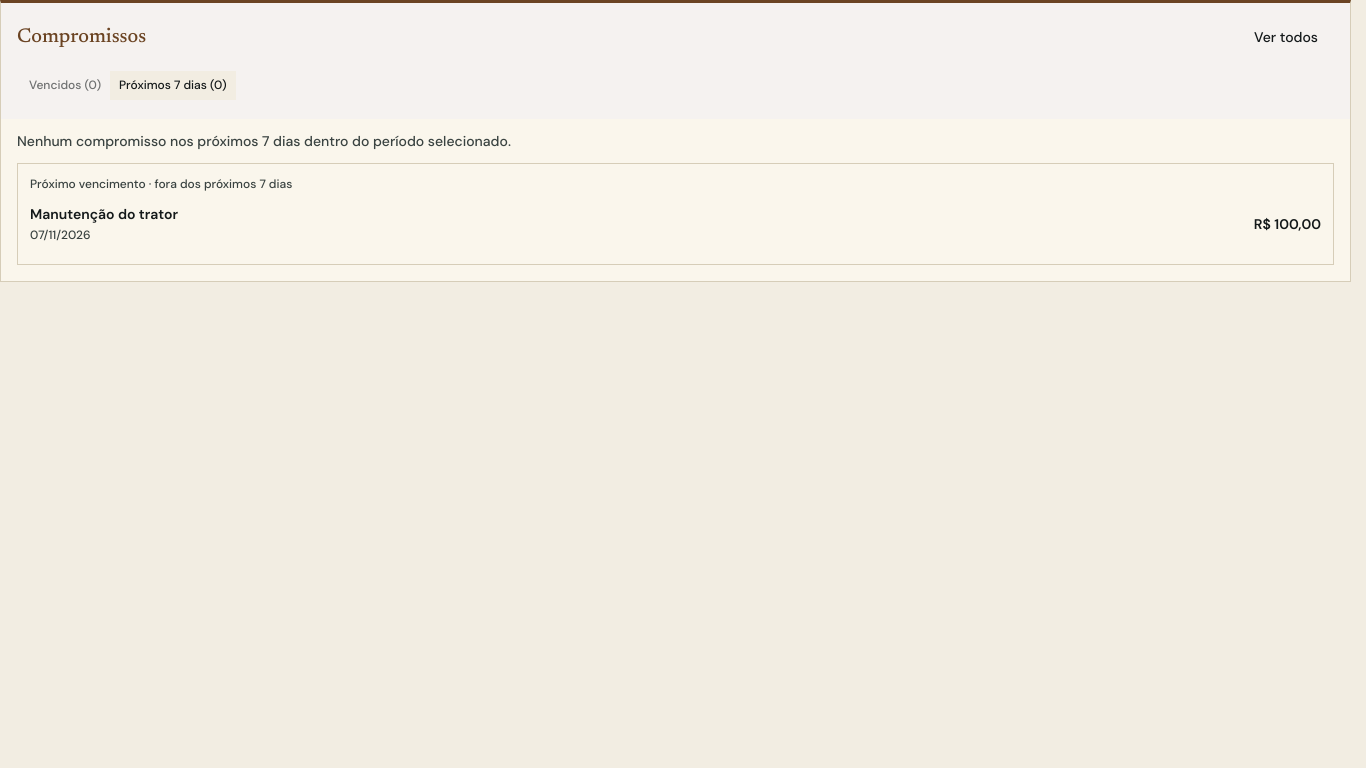
Test: apresenta o próximo vencimento fora dos sete dias sem alterar o grupo e abre seus detalhes
Expected: the tab "Próximos 7 dias (0)" is shown, [110,70,236,100]
Expected: the text "Próximo vencimento · fora dos próximos 7 dias" is shown, [30,176,292,192]
Click the button "Manutenção do trator 07/11/2026 R$ 100,00" at (104,214), box [30,196,1321,252]
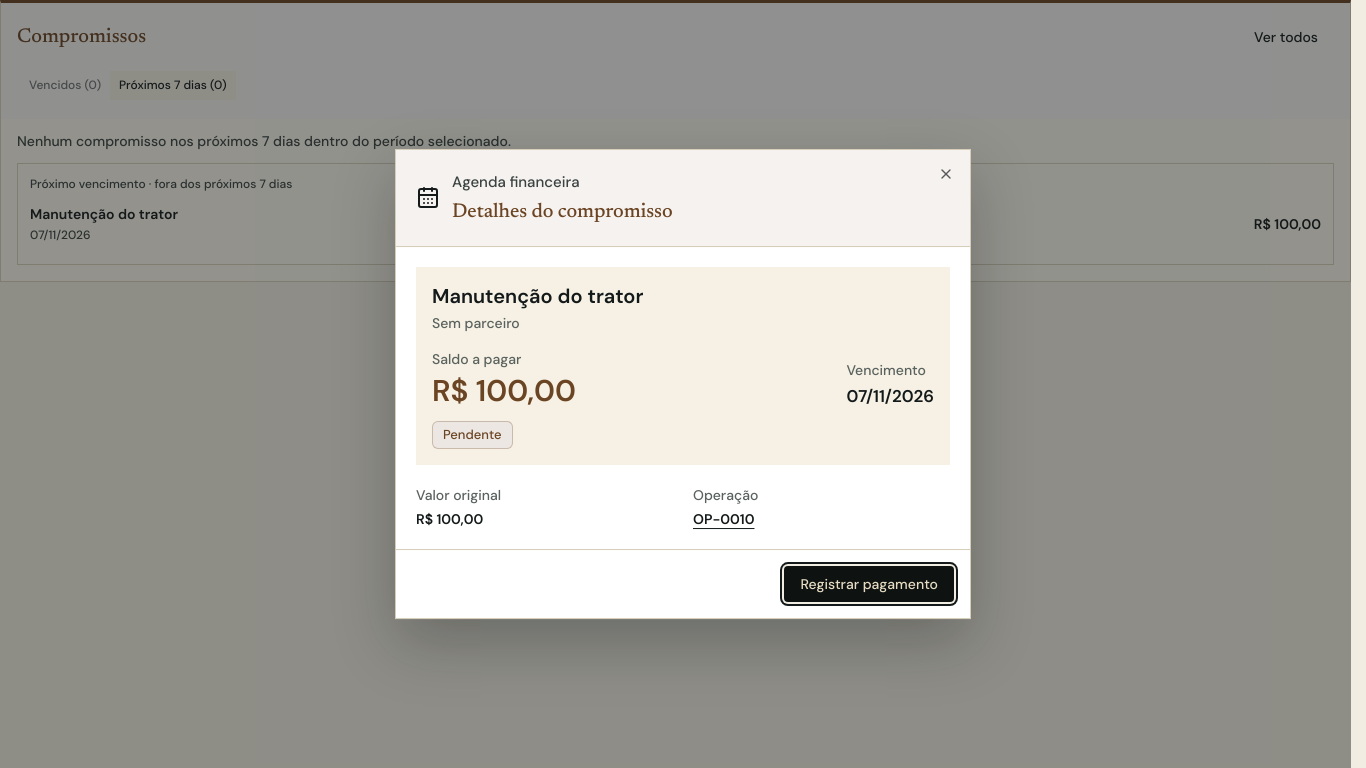
Now the dialog "Detalhes do compromisso" is shown, box [395,149,971,619]
